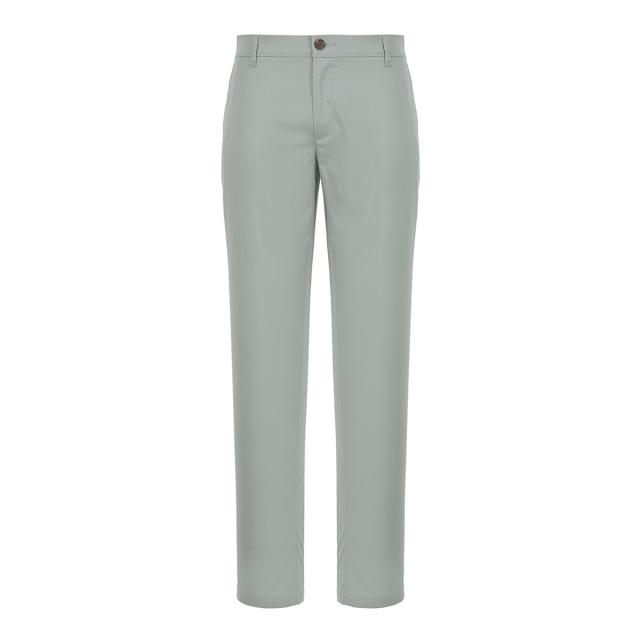long-pants: (222, 33, 420, 608)
